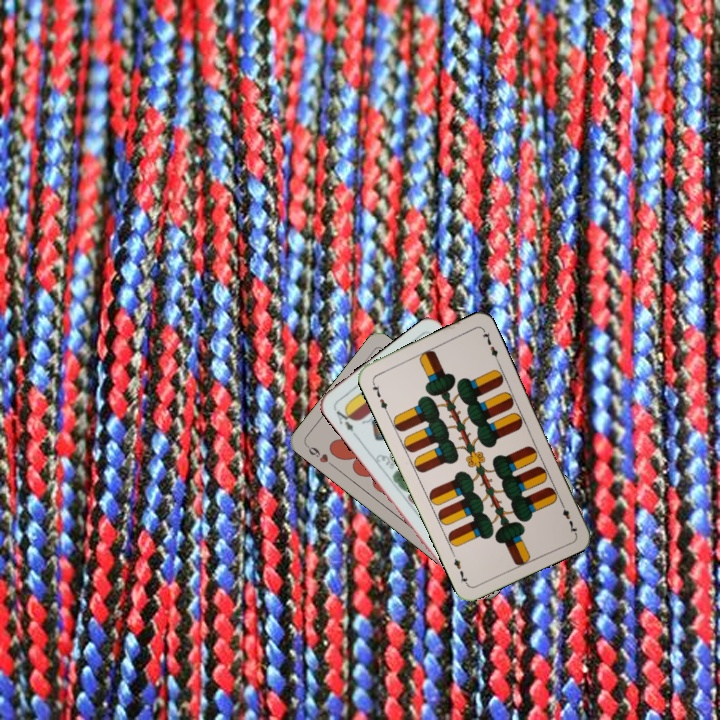E7: (556, 497, 580, 536), (368, 377, 391, 415)
EA: (330, 404, 357, 434)
H9: (302, 441, 337, 470)
